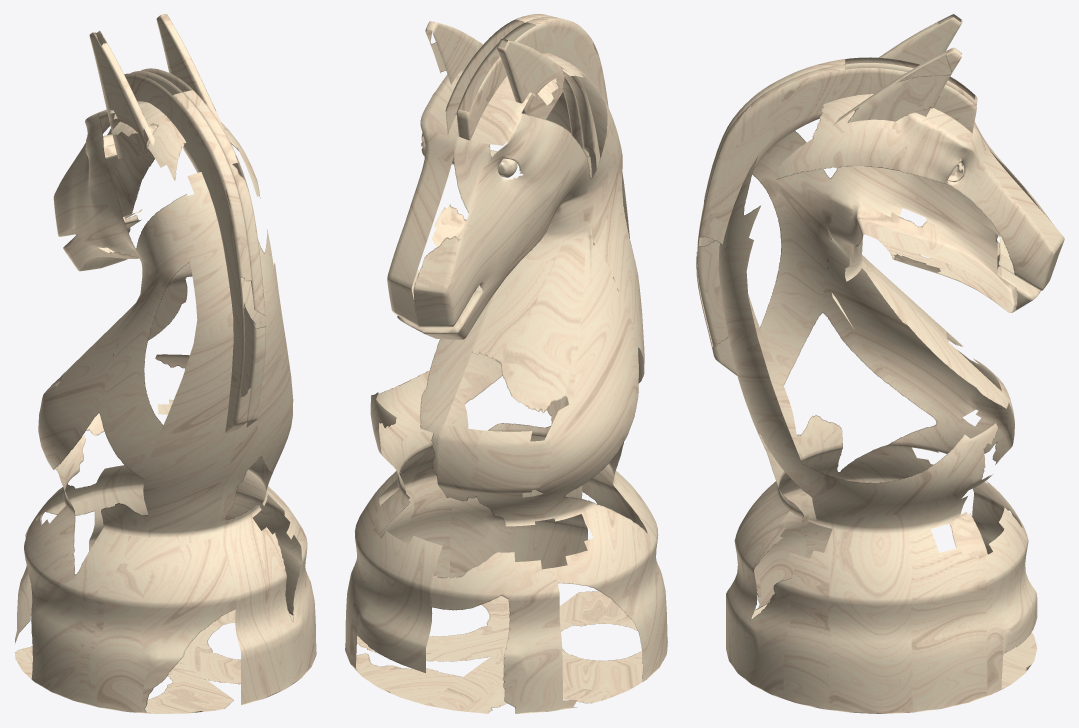
Rendered from Knight.fbx.
The picture shows the model from 3 angles, left to right: view 1: azimuth 30°, elevation 25°; view 2: azimuth 150°, elevation 25°; view 3: azimuth 270°, elevation 25°; orthographic projection. The views are drawn at different scales.
Parts seen in each view (by area): view 1: Black knight; view 2: Black knight; view 3: Black knight.
Part boxes in pixels (x1=…): Black knight: x1=15, y1=14, x2=316, y2=713; Black knight: x1=345, y1=14, x2=667, y2=713; Black knight: x1=696, y1=14, x2=1064, y2=713.
Size of the model in its own units: 251 by 550 by 298.
